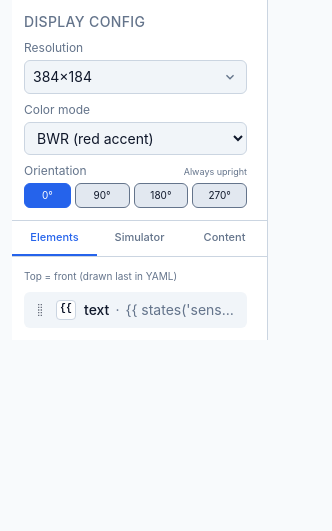
Test: Sidebar tabs under host-fed states › keeps the Simulator tab exactly as before when no host feeds states
The width and height of the screenshot is (332, 531).
Click the button "Simulator".
click(140, 238)  # box [97,221,182,256]
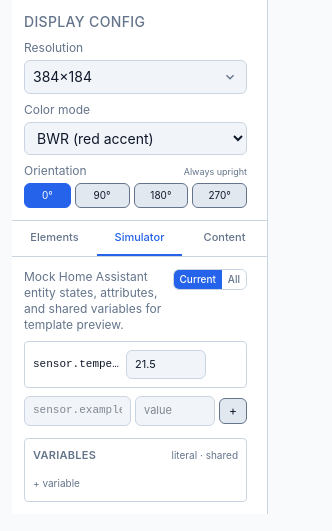
Result: the field named "New entity id" is shown at [24,396,131,426]
Result: the field named "Mock state for sensor.temperature" is shown at [126,350,206,379]
Result: the button with aria-label "Add variable" is shown at [33,476,80,491]
